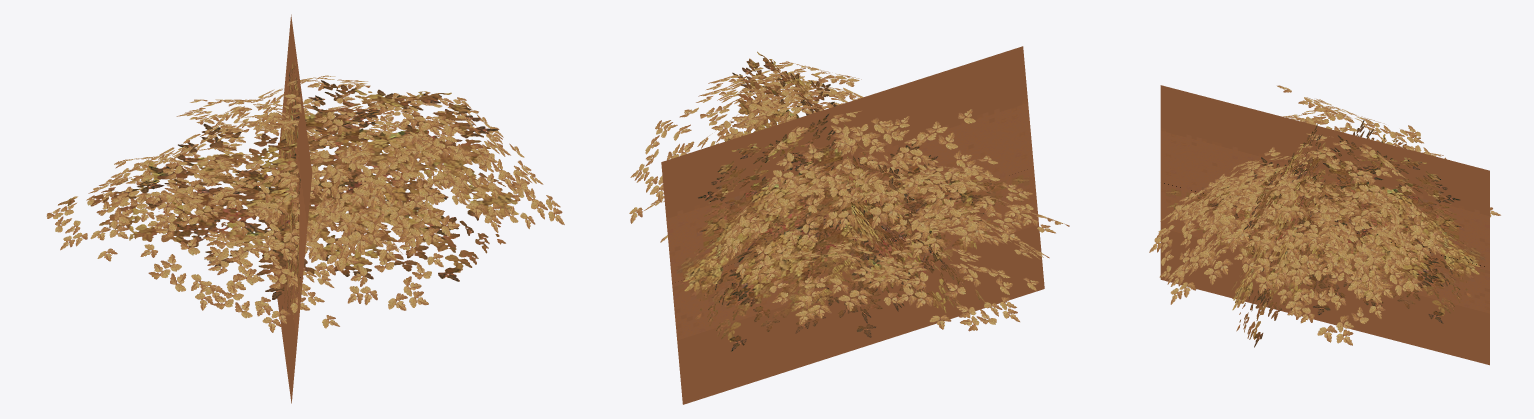
File: decd_saplingclump_sm_a1_l0.fbx
3 views of the same model, side by side, from view 1: azimuth 30°, elevation 25°; view 2: azimuth 150°, elevation 25°; view 3: azimuth 270°, elevation 25° (orthographic). The views are drawn at different scales.
Parts seen in each view (by area): view 1: mesh_node; view 2: mesh_node; view 3: mesh_node.
Boxes of the visible parts, x1,y1,x2,y2 form: mesh_node: [46, 14, 564, 403]; mesh_node: [629, 46, 1069, 404]; mesh_node: [1149, 85, 1500, 365].
Bounding box in the file's own units: 3.68 × 2.28 × 3.26.
